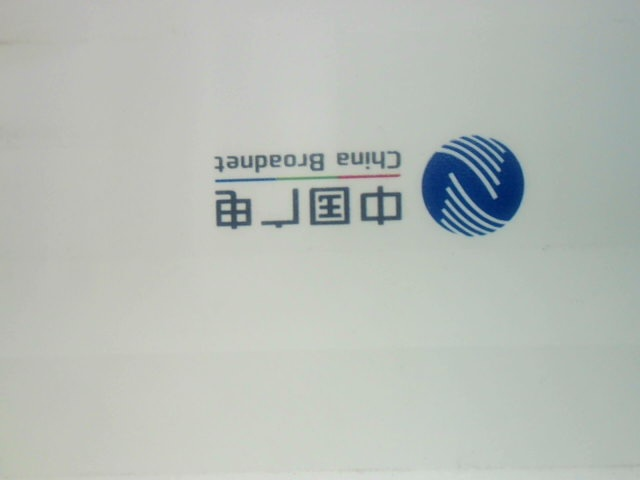AW_ChinaBroadNet: (195, 129, 537, 254)
